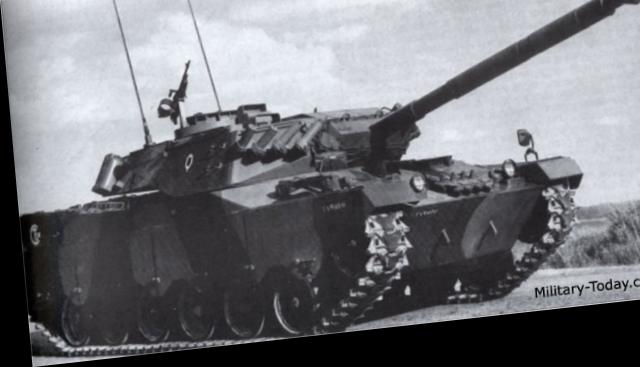tank: (16, 79, 575, 365)
